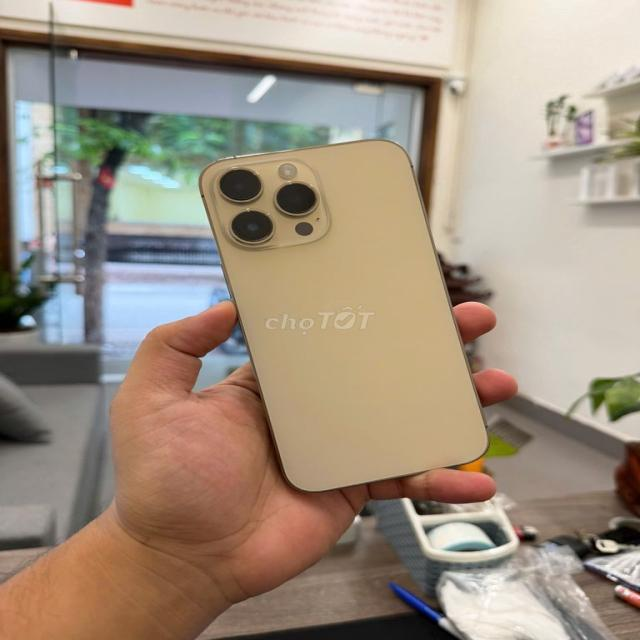gen_14: (207, 133, 494, 500)
